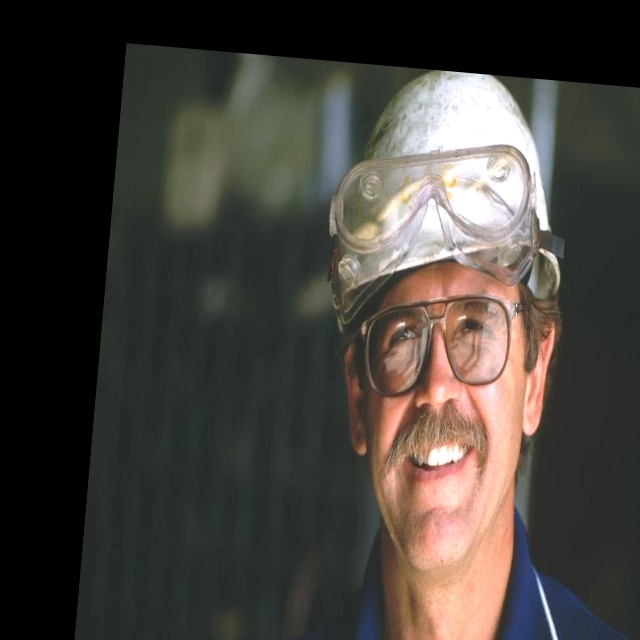Con_Casco: (305, 62, 581, 518)
